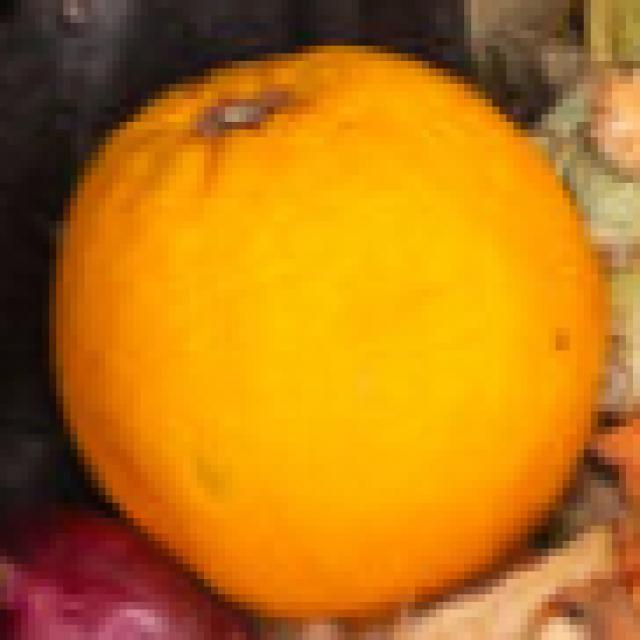food waste: (42, 0, 640, 584)
